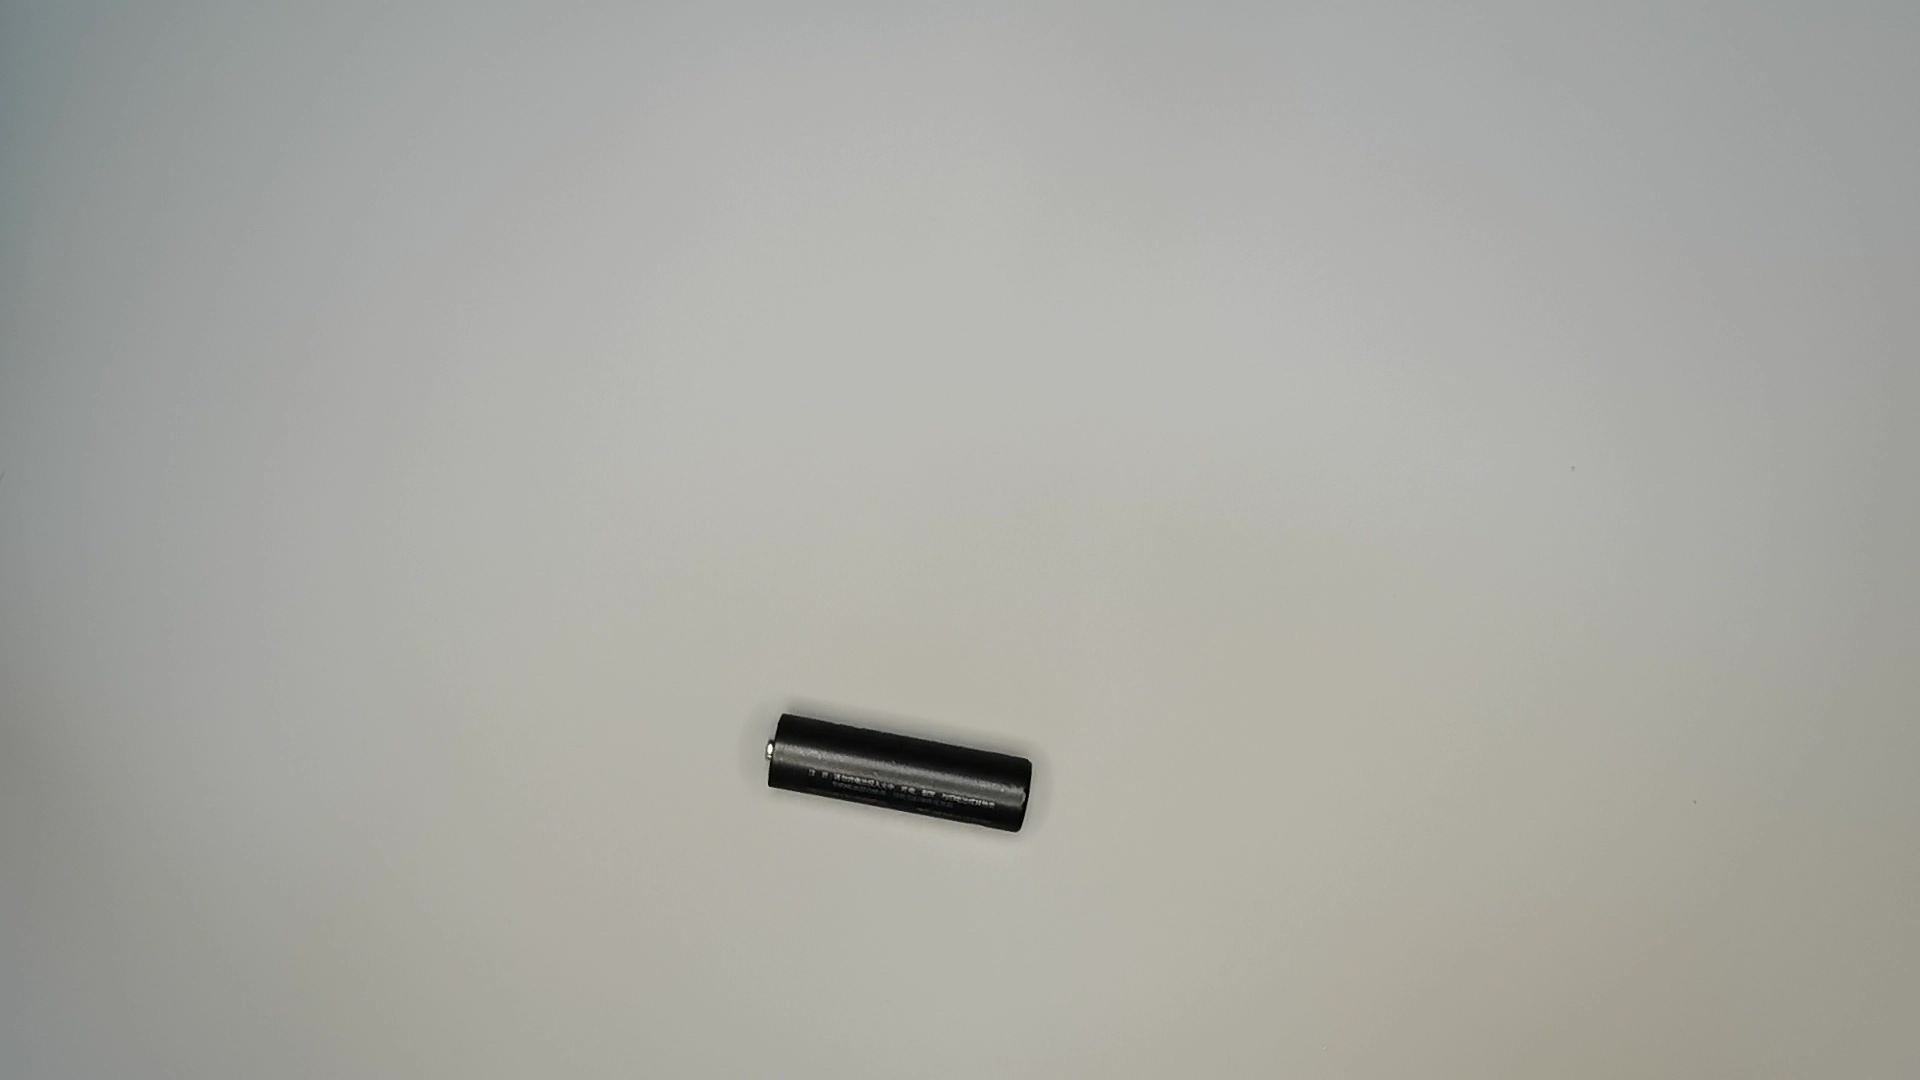battery: (764, 705, 1040, 841)
